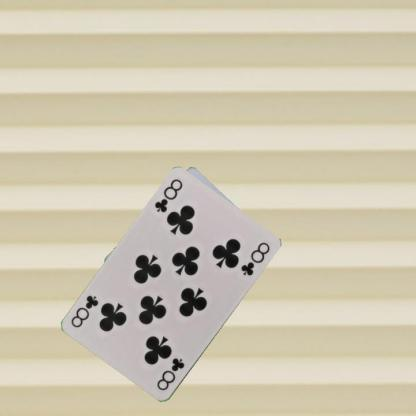8c: (152, 176, 184, 214), (154, 356, 186, 392)
